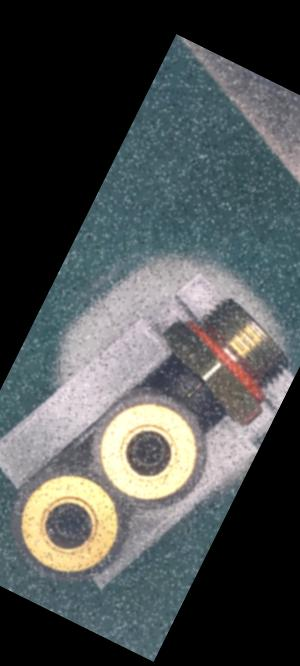craze: (183, 375, 205, 406)
